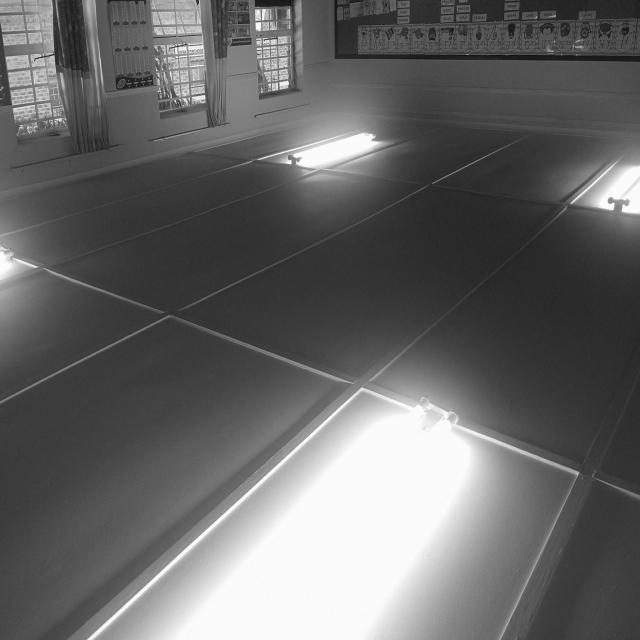light: (167, 382, 484, 640), (244, 119, 387, 182), (569, 145, 640, 218)
